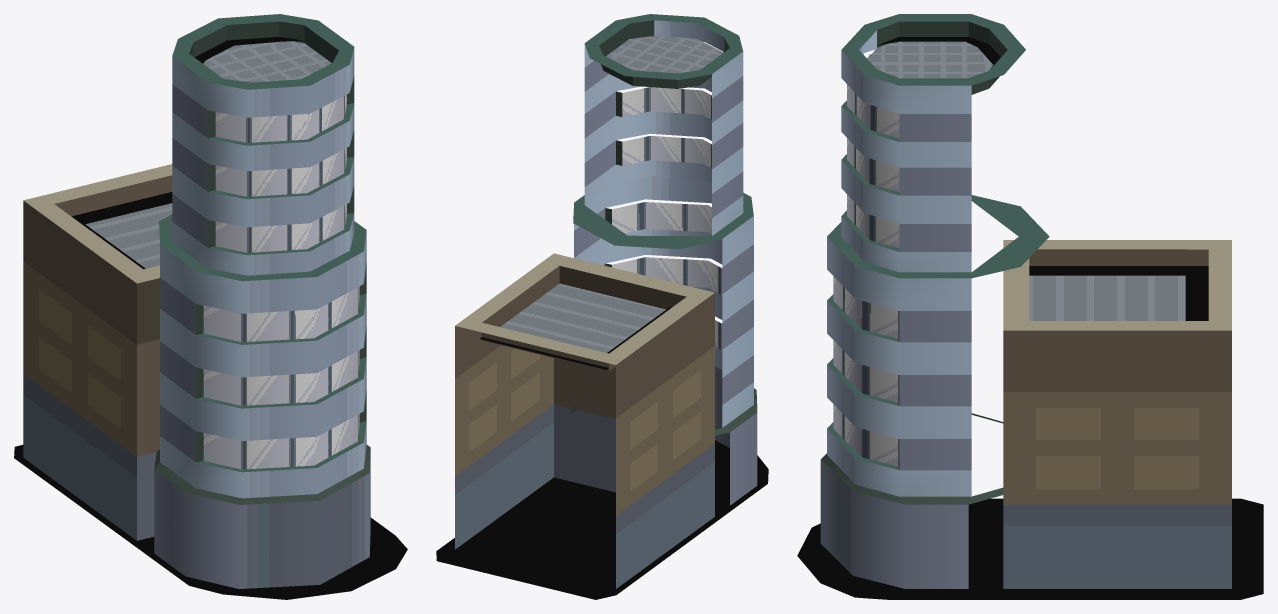
File: jubilife_city_building_4_lev3.glb
3 renders of one model, left to right at view 1: azimuth 30°, elevation 25°; view 2: azimuth 150°, elevation 25°; view 3: azimuth 270°, elevation 25°, orthographic. The views are drawn at different scales.
Parts seen in each view (by area): view 1: jubilife_city_building_4_lev3; view 2: jubilife_city_building_4_lev3; view 3: jubilife_city_building_4_lev3.
Boxes of the visible parts, x1=… form: jubilife_city_building_4_lev3: x1=14, y1=14, x2=407, y2=599; jubilife_city_building_4_lev3: x1=436, y1=14, x2=768, y2=599; jubilife_city_building_4_lev3: x1=797, y1=14, x2=1263, y2=599.
Bounding box in the file's own units: 22.58 × 51.53 × 43.89.
4 materials, 4 textured.
